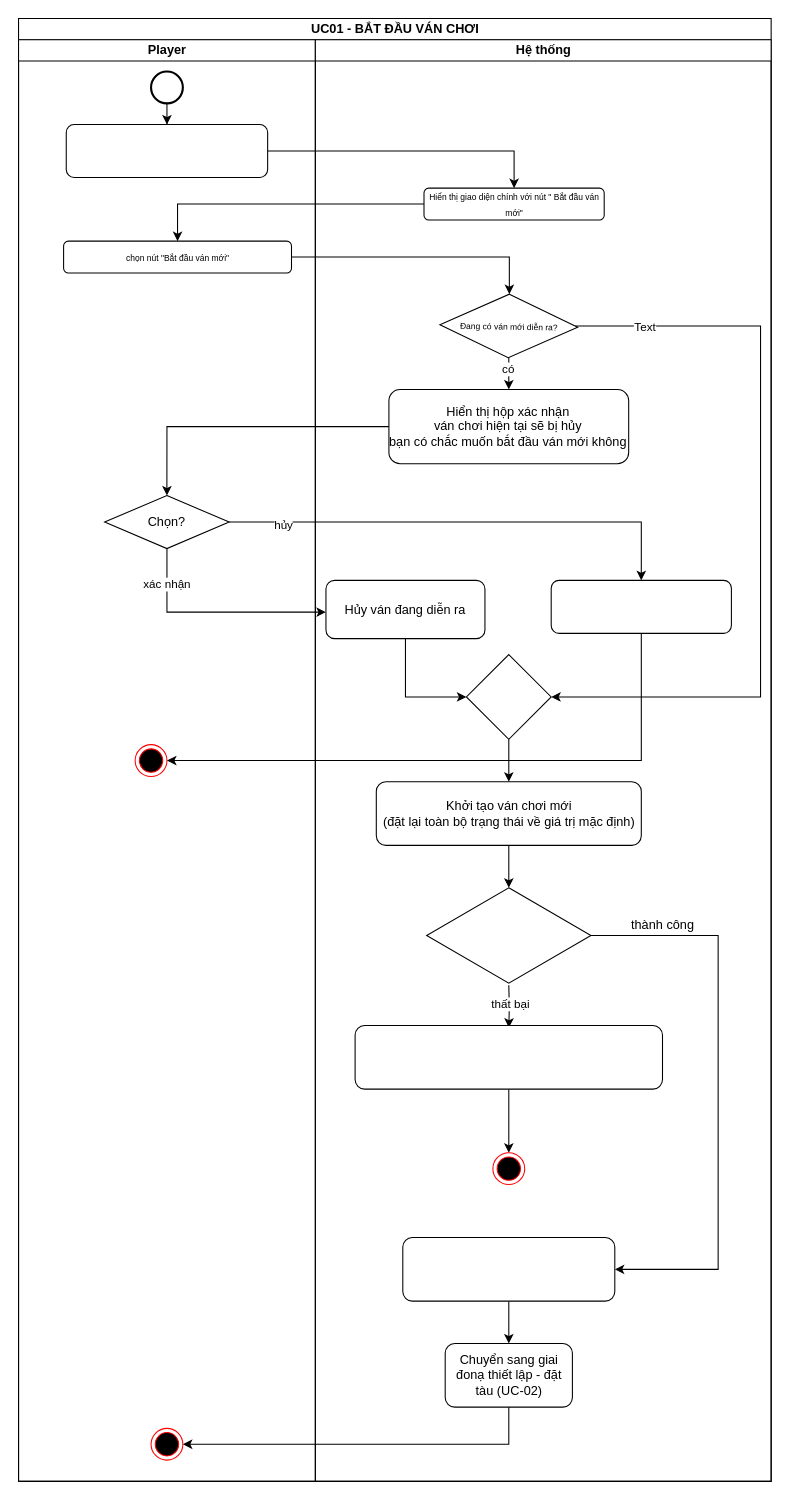
Some shapes in this 790 by 1500 pixel diagram are drawn without their labels. The shapes that lost their labels are listed below. From the top down, each one's centre as x and y in pixels, then its label:
(166,150): truy cập trang chủ BattleShip
(640,606): Đóng hộp xác nhận duy trì ván chơi hiện tại
(508,935): Khởi tạo thành công?
(508,1056): Hiển thị thông báo lỗi "Không thể bắt đầu ván chơi. Vui lòng tải lại trang"
(508,1268): Hiển thị giao diện ván chơi với label "vs Computer"
